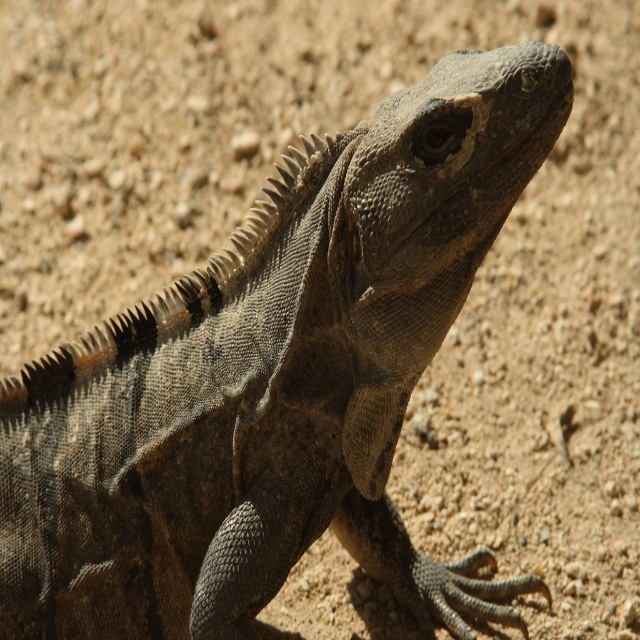Lizard: (0, 40, 575, 639)
